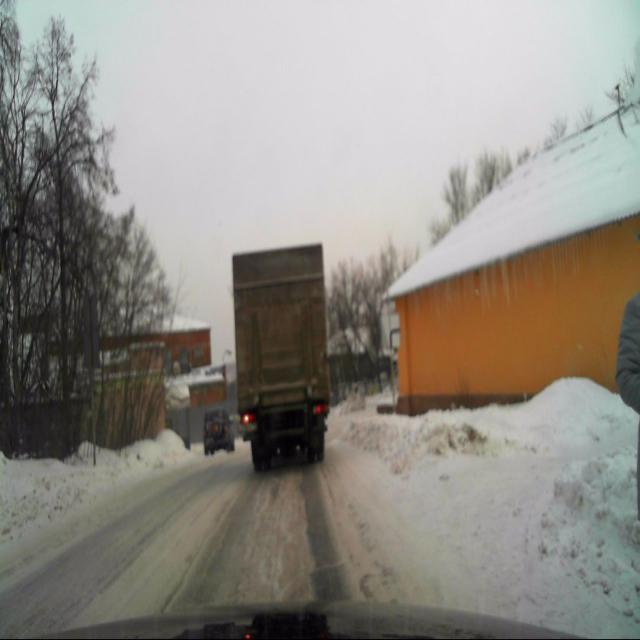road sign: (380, 315, 400, 347)
